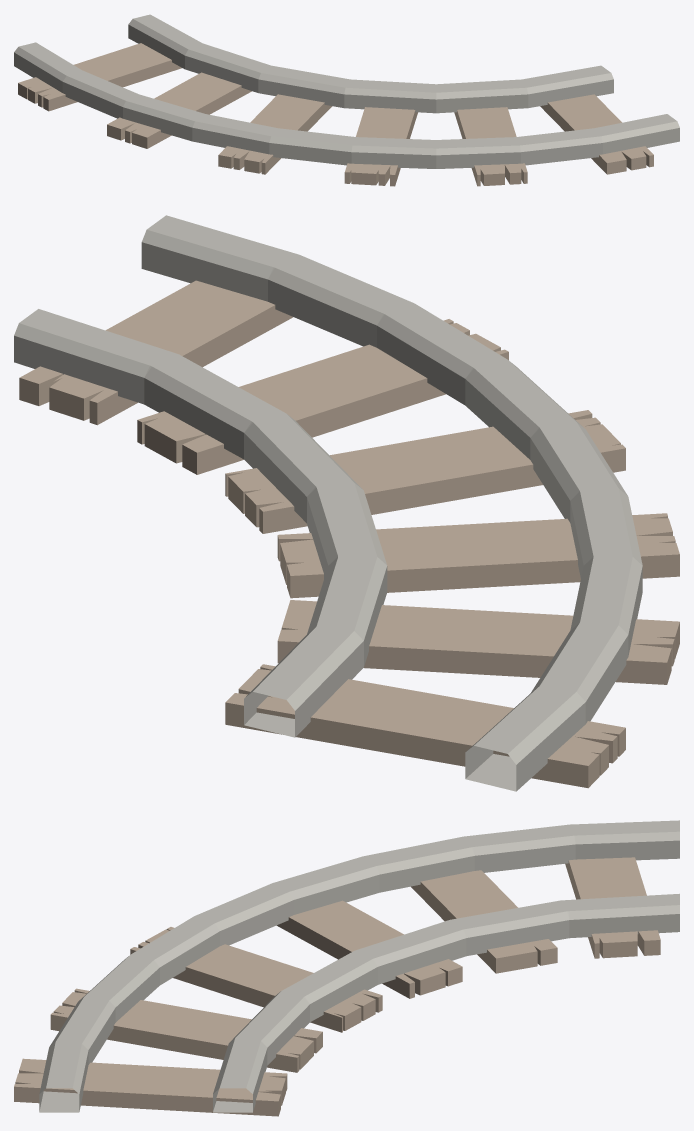
The model's file is Cave_Prop_Railway_Curve_Large.glb.
3 views of the same model, one above another, from view 1: azimuth 30°, elevation 25°; view 2: azimuth 150°, elevation 25°; view 3: azimuth 270°, elevation 25° (orthographic). The views are drawn at different scales.
Parts seen in each view (by area): view 1: Cave_Prop_Railway_Curve_Large; view 2: Cave_Prop_Railway_Curve_Large; view 3: Cave_Prop_Railway_Curve_Large.
Part boxes in pixels (x1,y1,x2,y2): Cave_Prop_Railway_Curve_Large: [14, 14, 679, 186]; Cave_Prop_Railway_Curve_Large: [14, 215, 679, 791]; Cave_Prop_Railway_Curve_Large: [14, 820, 679, 1116].
Bounding box in the file's own units: 1.32 × 0.0795 × 1.32.
